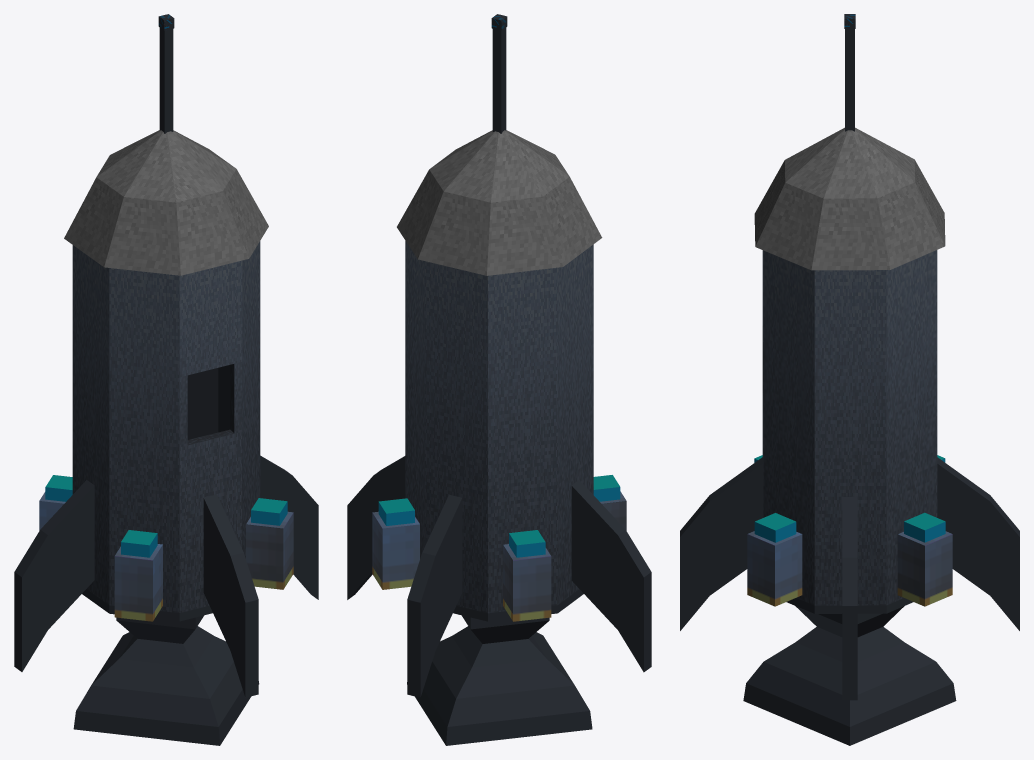
Rendered from tier9rocket.obj.
The picture shows the model from 3 angles, left to right: view 1: azimuth 30°, elevation 25°; view 2: azimuth 150°, elevation 25°; view 3: azimuth 270°, elevation 25°; orthographic projection.
Visible parts, largest first — view 1: Rocket, NoseCone, Boosters; view 2: Rocket, NoseCone, Boosters; view 3: Rocket, NoseCone, Boosters.
Boxes of the visible parts, x1=… form: Rocket: x1=14, y1=27, x2=318, y2=745; NoseCone: x1=64, y1=130, x2=268, y2=275; Boosters: x1=39, y1=475, x2=293, y2=621; Rocket: x1=347, y1=27, x2=651, y2=745; NoseCone: x1=397, y1=130, x2=602, y2=275; Boosters: x1=372, y1=475, x2=626, y2=621; Rocket: x1=680, y1=29, x2=1019, y2=745; NoseCone: x1=754, y1=127, x2=945, y2=270; Boosters: x1=747, y1=455, x2=952, y2=606.
Size of the model in its own units: 3.61 by 8.02 by 3.61.
